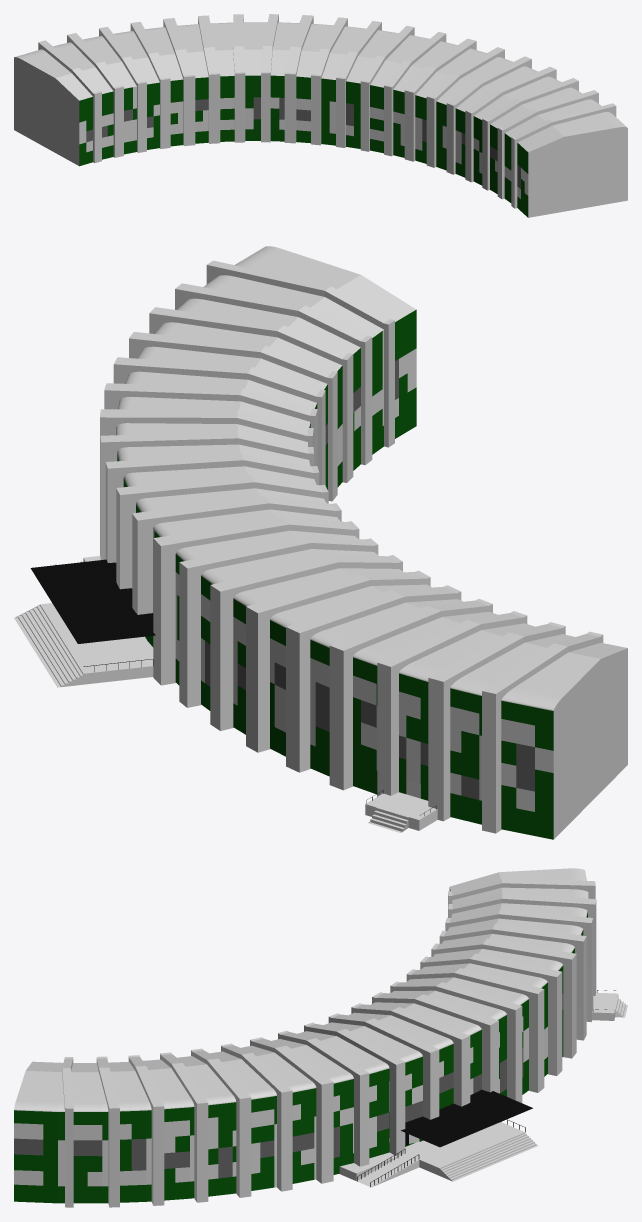
File: CSU(Library).obj
3 views of the same model, one above another, from view 1: azimuth 30°, elevation 25°; view 2: azimuth 150°, elevation 25°; view 3: azimuth 270°, elevation 25° (orthographic). The views are drawn at different scales.
Visible parts, largest first — view 1: Cube.472, Cube.473; view 2: Cube.473, Cube.472, Cube.477, Plane.021, Cube.475, Cube.476, Cube.484; view 3: Cube.472, Cube.473, Cube.477, Plane.021, Cube.475, Cube.476, Cube.474, Cube.479, Cube.484.
Part boxes in pixels (<box>): Cube.472: <box>14,22,627,217</box>; Cube.473: <box>38,14,616,208</box>; Cube.473: <box>100,260,603,833</box>; Cube.472: <box>116,246,627,839</box>; Cube.477: <box>32,560,154,643</box>; Plane.021: <box>30,559,155,643</box>; Cube.475: <box>40,603,153,684</box>; Cube.476: <box>14,605,83,687</box>; Cube.484: <box>365,792,437,830</box>; Cube.472: <box>14,868,588,1203</box>; Cube.473: <box>62,878,596,1207</box>; Cube.477: <box>401,1090,531,1146</box>; Plane.021: <box>401,1089,532,1147</box>; Cube.475: <box>405,1122,525,1175</box>; Cube.476: <box>439,1133,538,1181</box>; Cube.474: <box>357,1153,419,1187</box>; Cube.479: <box>339,1152,403,1181</box>; Cube.484: <box>592,992,618,1020</box>.
Bounding box in the file's own units: 232 × 44.13 × 246.
